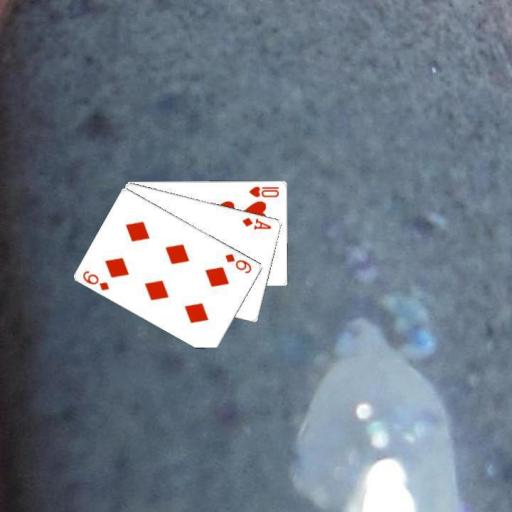card-corner: (222, 250, 253, 276), (80, 268, 111, 292), (239, 214, 273, 231), (246, 183, 280, 198)
